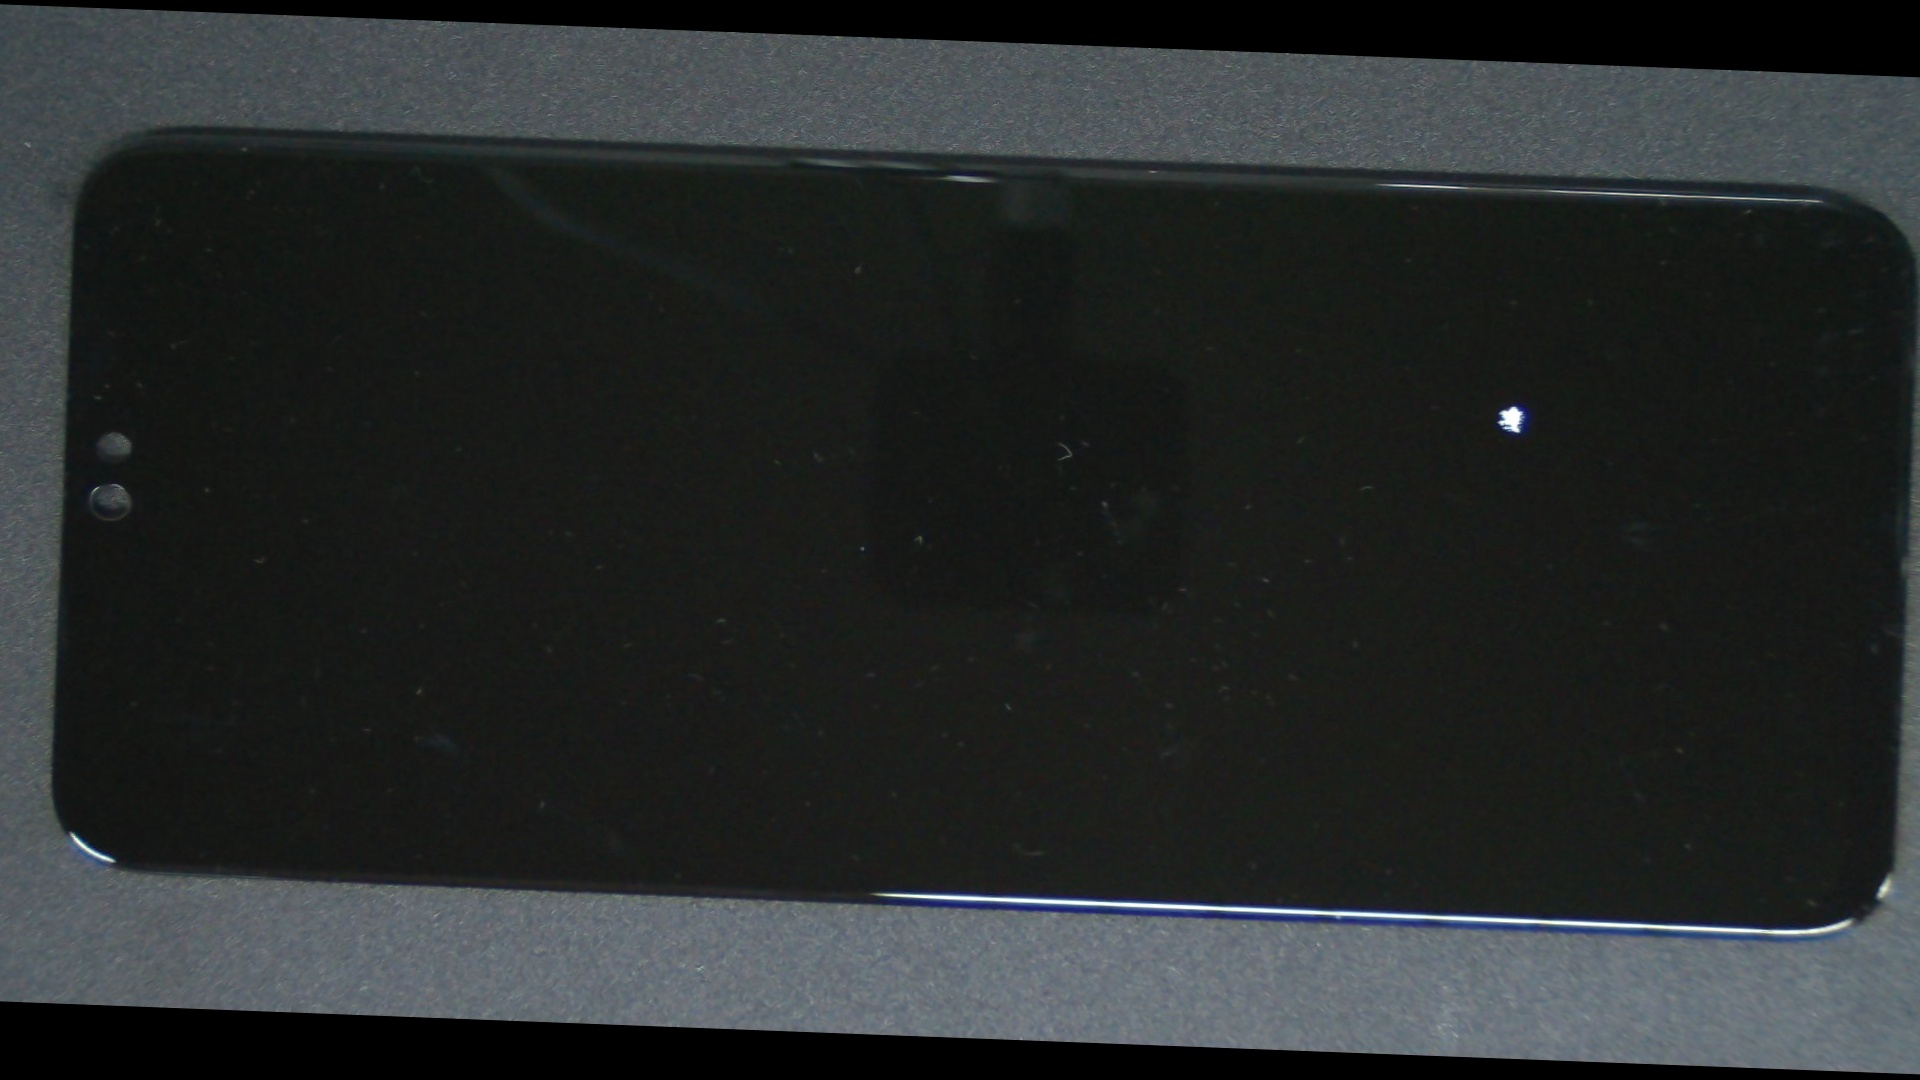oil: (729, 203, 1920, 596)
